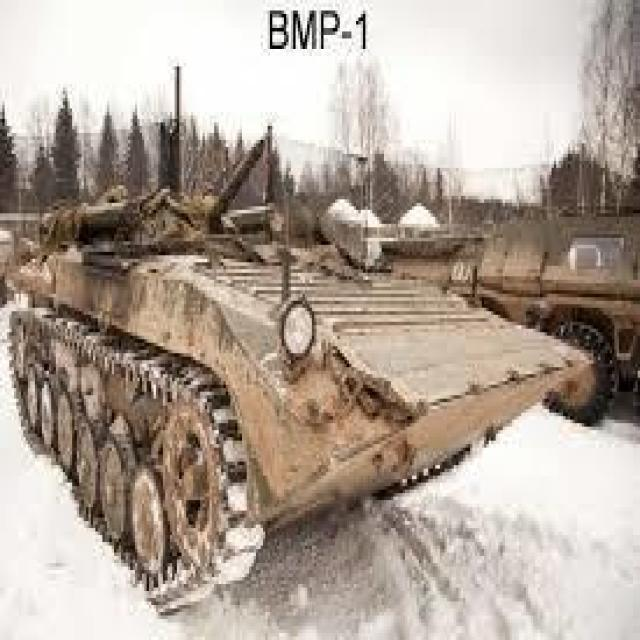MIL_MBT: (14, 177, 593, 554), (495, 213, 637, 406)
